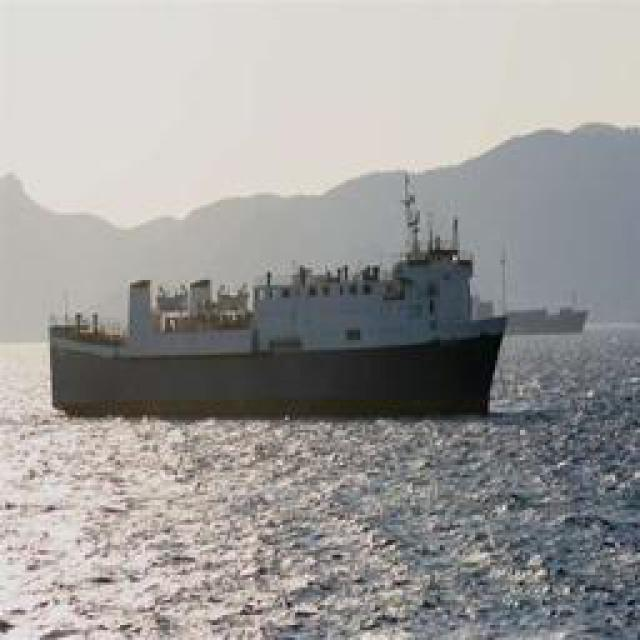Ship: (49, 178, 524, 413)
